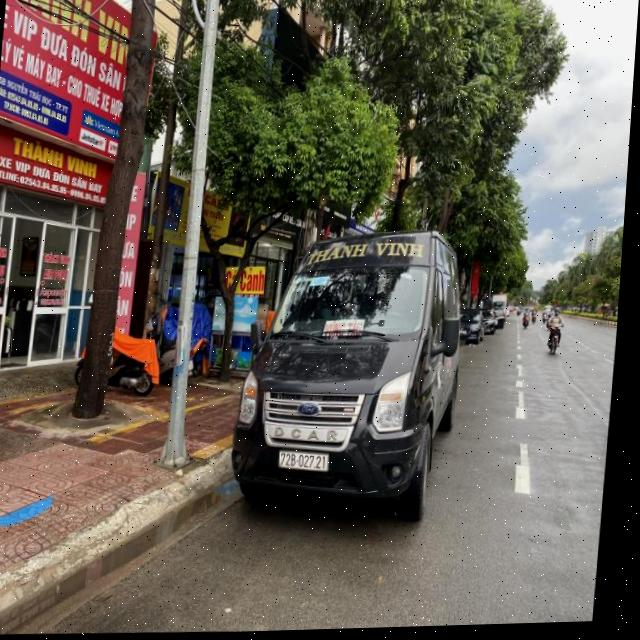car: (229, 228, 469, 522)
motorcycle: (539, 322, 567, 359)
plate: (272, 443, 333, 477)
